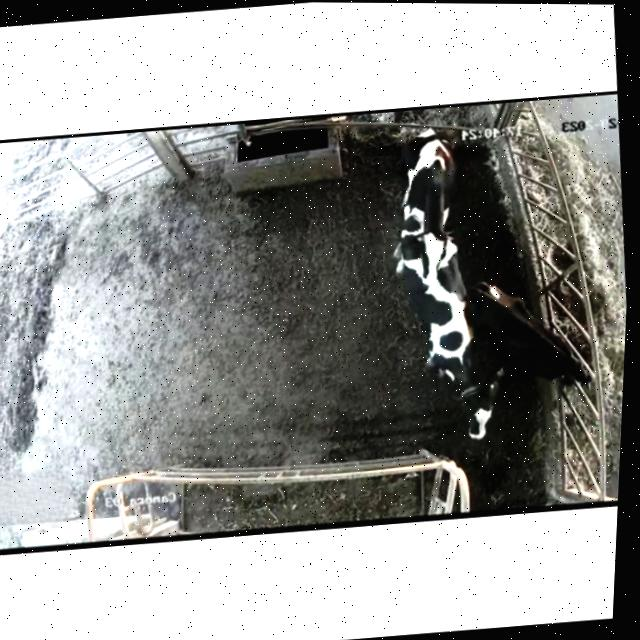propping: (390, 222, 469, 300)
